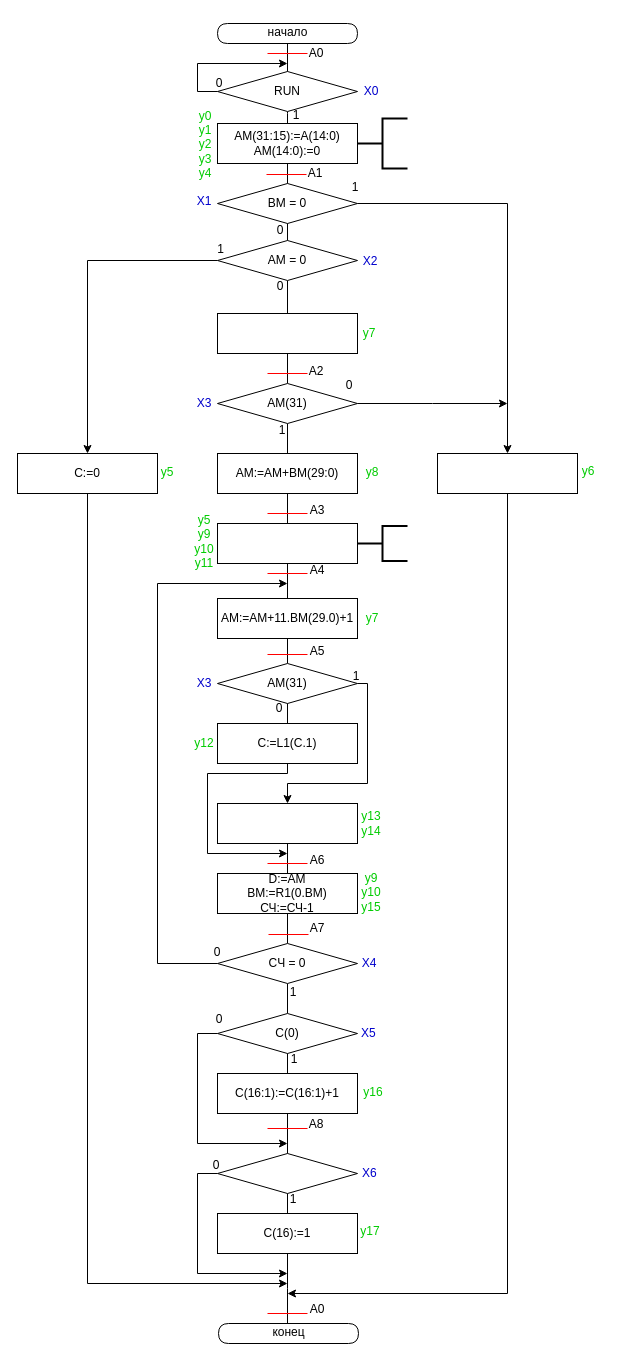
Some shapes in this 636 by 1364 pixel diagram are drawn without their labels. The shapes that lost their labels are listed below. From the top down, each one's centre as x and y in pixels, then its label:
At pixel 382 143: "BM(31:15):=B(14:0) BM(14:0):=0 ПП:=0".
At pixel 287 333: "AM:=AM+11. ¬ BM(29.0)+1".
At pixel 507 473: "ПП:=1".
At pixel 287 543: "C:=0 D:=AM".
At pixel 382 543: "BM:=R1(0.BM) СЧ:=0".
At pixel 287 823: "C:=L1(C.0) AM:=D".
At pixel 287 1173: "A(15) ⊕ B(15)".
